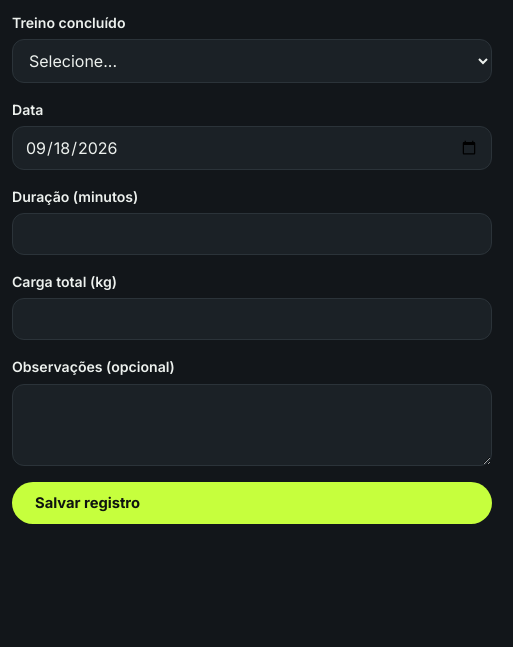
Scenario: FormularioRegistro › mostra mensagens de erro ao submeter campos inválidos
Clear the date field labelled "Data" at (252, 148), box 12,126 -> 492,170
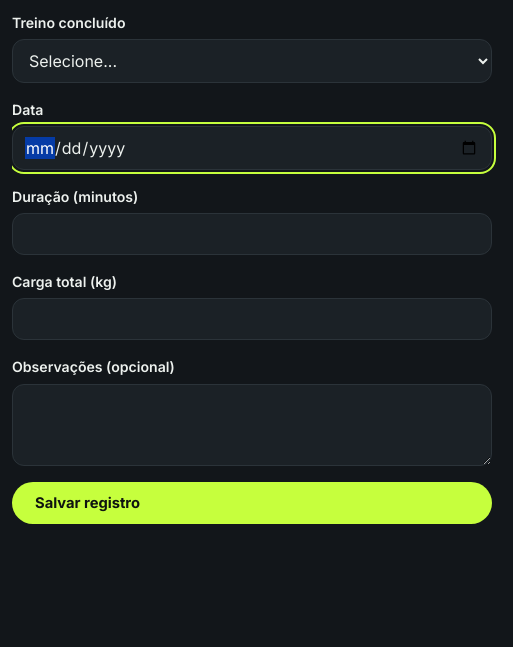
Click the button "Salvar registro" at (88, 503), box 12,482 -> 492,524
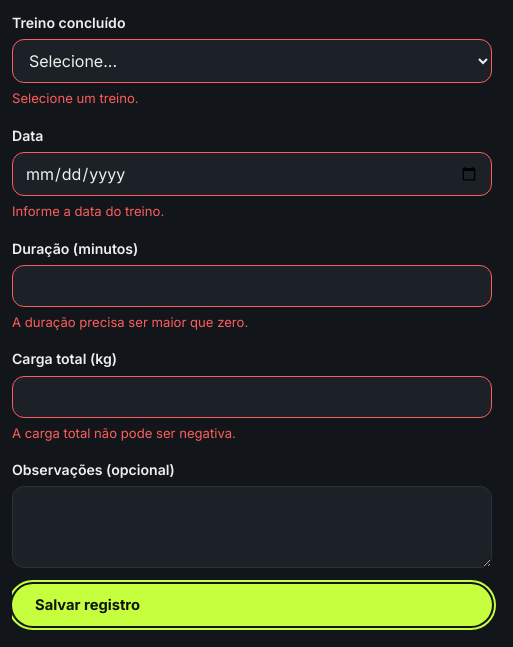
Expected: the text "Selecione um treino." is shown, 12,90 -> 139,106
Expected: the text "Informe a data do treino." is shown, 12,203 -> 164,219
Expected: the text "A duração precisa ser maior que zero." is shown, 12,314 -> 248,330
